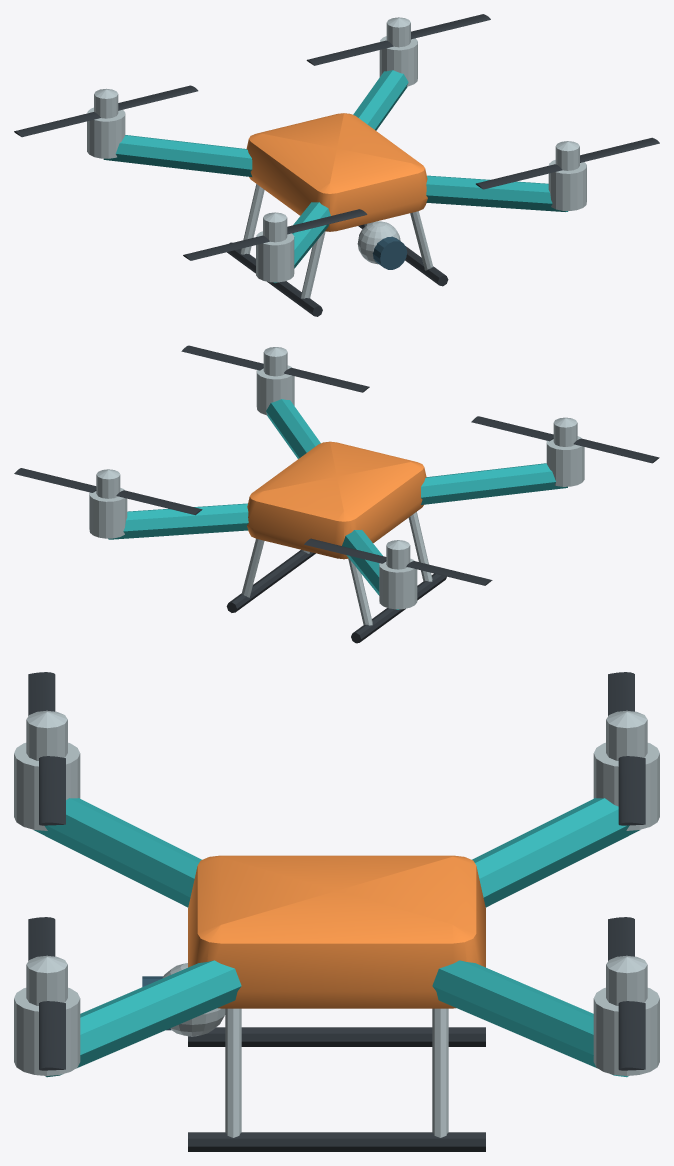
The model's file is air-land-sea-vehicles-camera-quadcopter-3e730973__20029.glb.
3 views of the same model, one above another, from view 1: azimuth 30°, elevation 25°; view 2: azimuth 150°, elevation 25°; view 3: azimuth 270°, elevation 25° (orthographic). The views are drawn at different scales.
Parts seen in each view (by area): view 1: camera-quadcopter, rotor--1-1 (×2), rotor--1--1 (×2), rotor-1--1 (×2), rotor-1-1 (×2), camera-gimbal; view 2: camera-quadcopter, rotor-1--1 (×2), rotor--1--1 (×2), rotor--1-1 (×2), rotor-1-1 (×2); view 3: camera-quadcopter, rotor-1--1 (×2), rotor--1--1 (×2), rotor--1-1 (×2), rotor-1-1 (×2), camera-gimbal.
Part boxes in pixels (x1,y1,x2,y2): camera-quadcopter: (87, 36, 586, 316); rotor--1-1 (×2): (183, 209, 367, 260); rotor--1--1 (×2): (14, 85, 198, 137); rotor-1--1 (×2): (306, 14, 490, 65); rotor-1-1 (×2): (476, 137, 659, 189); camera-gimbal: (357, 221, 400, 264); camera-quadcopter: (89, 365, 584, 643); rotor-1--1 (×2): (14, 468, 202, 515); rotor--1--1 (×2): (304, 538, 492, 585); rotor--1-1 (×2): (471, 416, 659, 463); rotor-1-1 (×2): (181, 345, 369, 392); camera-quadcopter: (14, 742, 659, 1151); rotor-1--1 (×2): (606, 917, 647, 1070); rotor--1--1 (×2): (606, 672, 647, 825); rotor--1-1 (×2): (26, 672, 67, 825); rotor-1-1 (×2): (26, 917, 67, 1070); camera-gimbal: (163, 963, 225, 1036).
Bounding box in the file's own units: 2.26 × 0.705 × 1.56.
